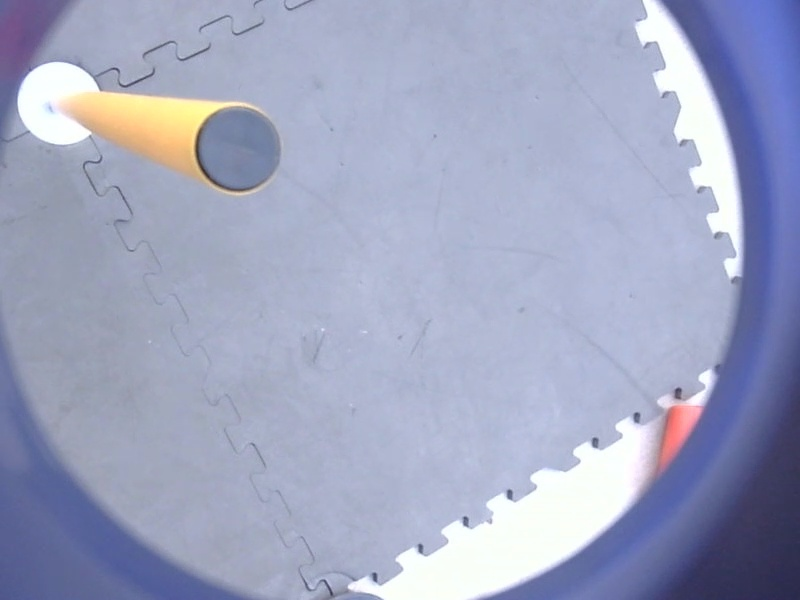tip: (187, 98, 288, 200)
